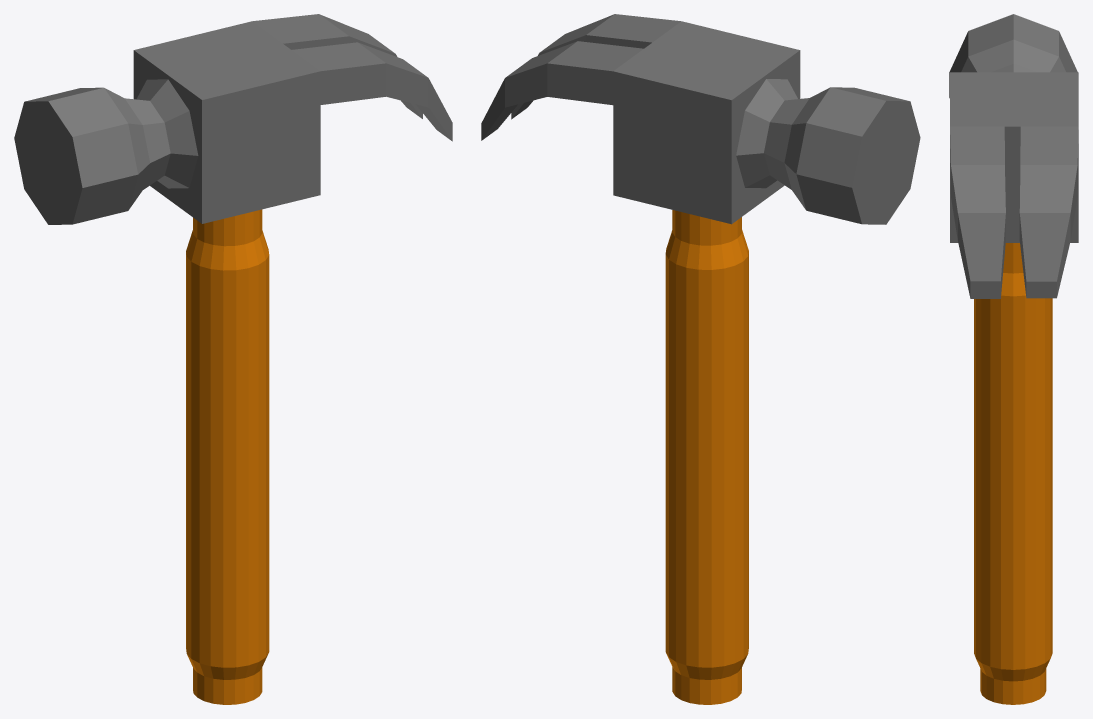
The model's file is Unit_3_Lab_Hammer.fbx.
3 renders of one model, left to right at view 1: azimuth 30°, elevation 25°; view 2: azimuth 150°, elevation 25°; view 3: azimuth 270°, elevation 25°, orthographic. The views are drawn at different scales.
Visible parts, largest first — view 1: polySurface8; view 2: polySurface8; view 3: polySurface8.
Part boxes in pixels (box(x1,y1,x2,y2)): polySurface8: box(14, 14, 452, 704); polySurface8: box(481, 14, 920, 704); polySurface8: box(949, 14, 1078, 704).
Size of the model in its own units: 4.01 by 6.35 by 1.25.
